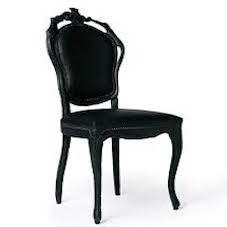chair: (26, 4, 224, 217)
